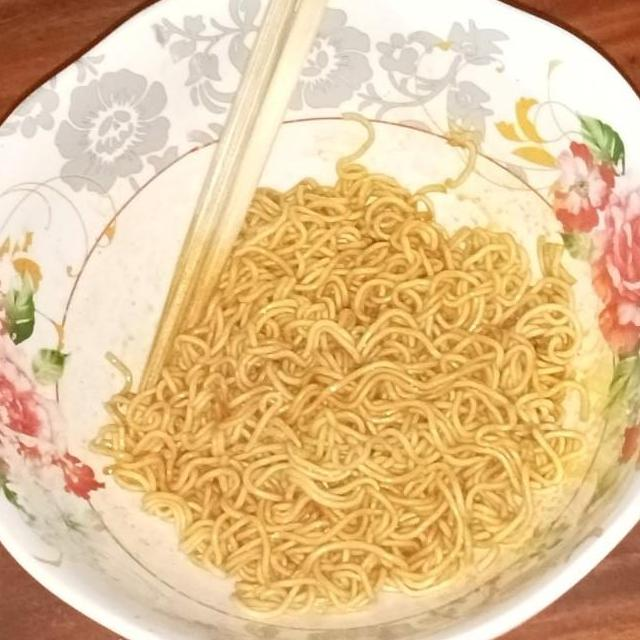mi: (79, 152, 590, 620)
